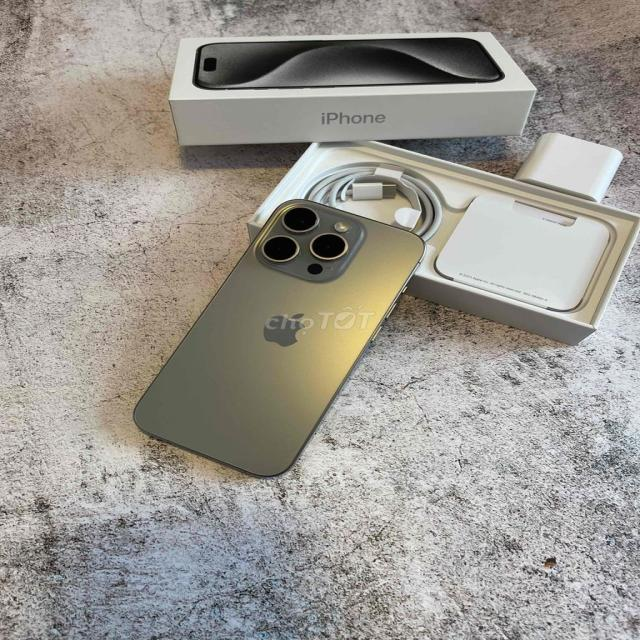gen_15: (129, 193, 428, 484)
